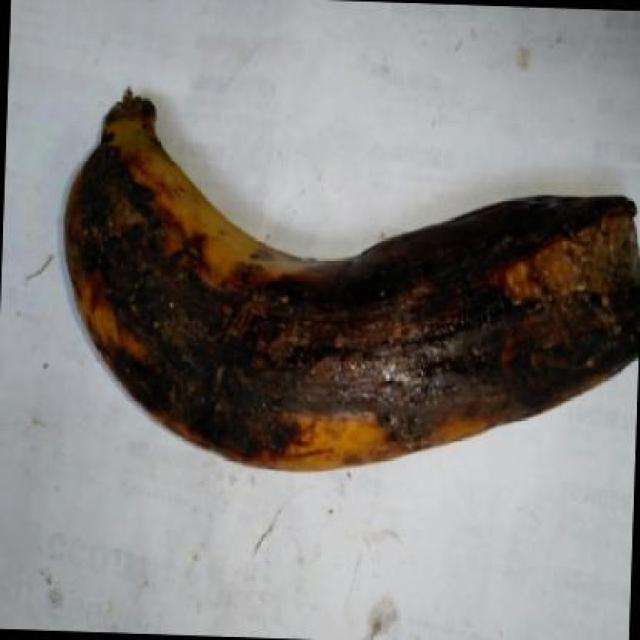rotten: (33, 71, 640, 518)
